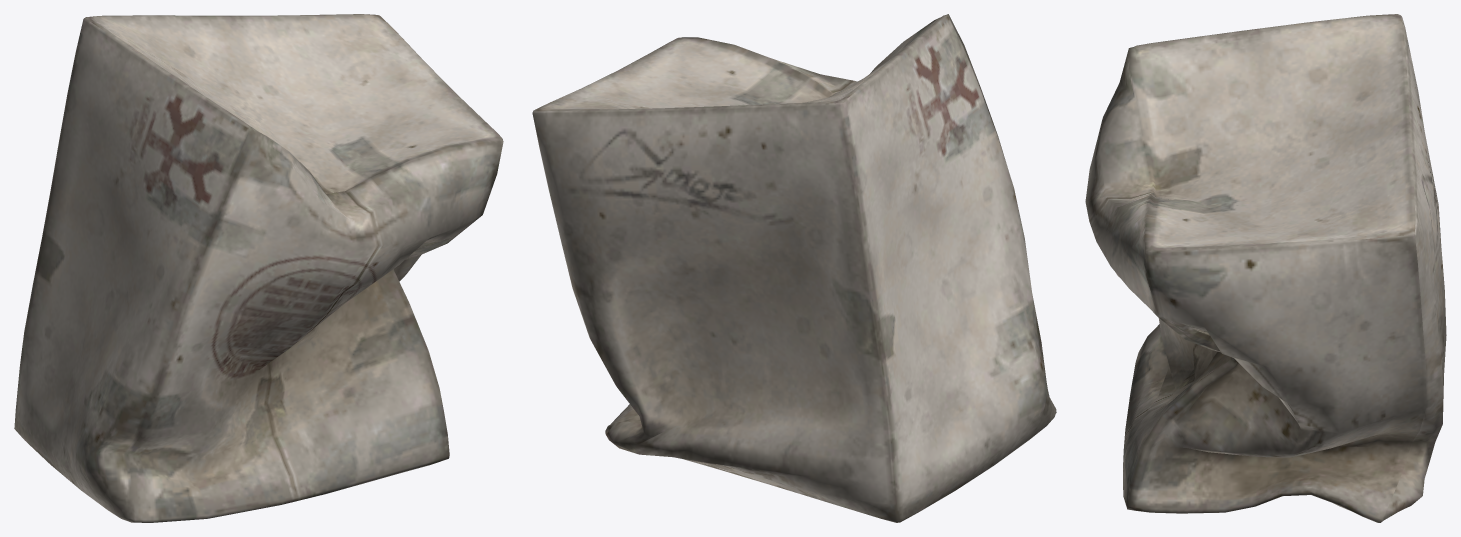
Rendered from cardboardBox01_c.FBX.
3 renders of one model, left to right at view 1: azimuth 30°, elevation 25°; view 2: azimuth 150°, elevation 25°; view 3: azimuth 270°, elevation 25°, orthographic.
Visible parts, largest first — view 1: SM_CardboardBox01; view 2: SM_CardboardBox01; view 3: SM_CardboardBox01.
Boxes of the visible parts, x1,y1,x2,y2 form: SM_CardboardBox01: [14, 14, 503, 522]; SM_CardboardBox01: [532, 14, 1056, 522]; SM_CardboardBox01: [1085, 14, 1446, 522].
Bounding box in the file's own units: 37.58 × 35.45 × 29.33.
Materials: 1 (1 with a texture image).
